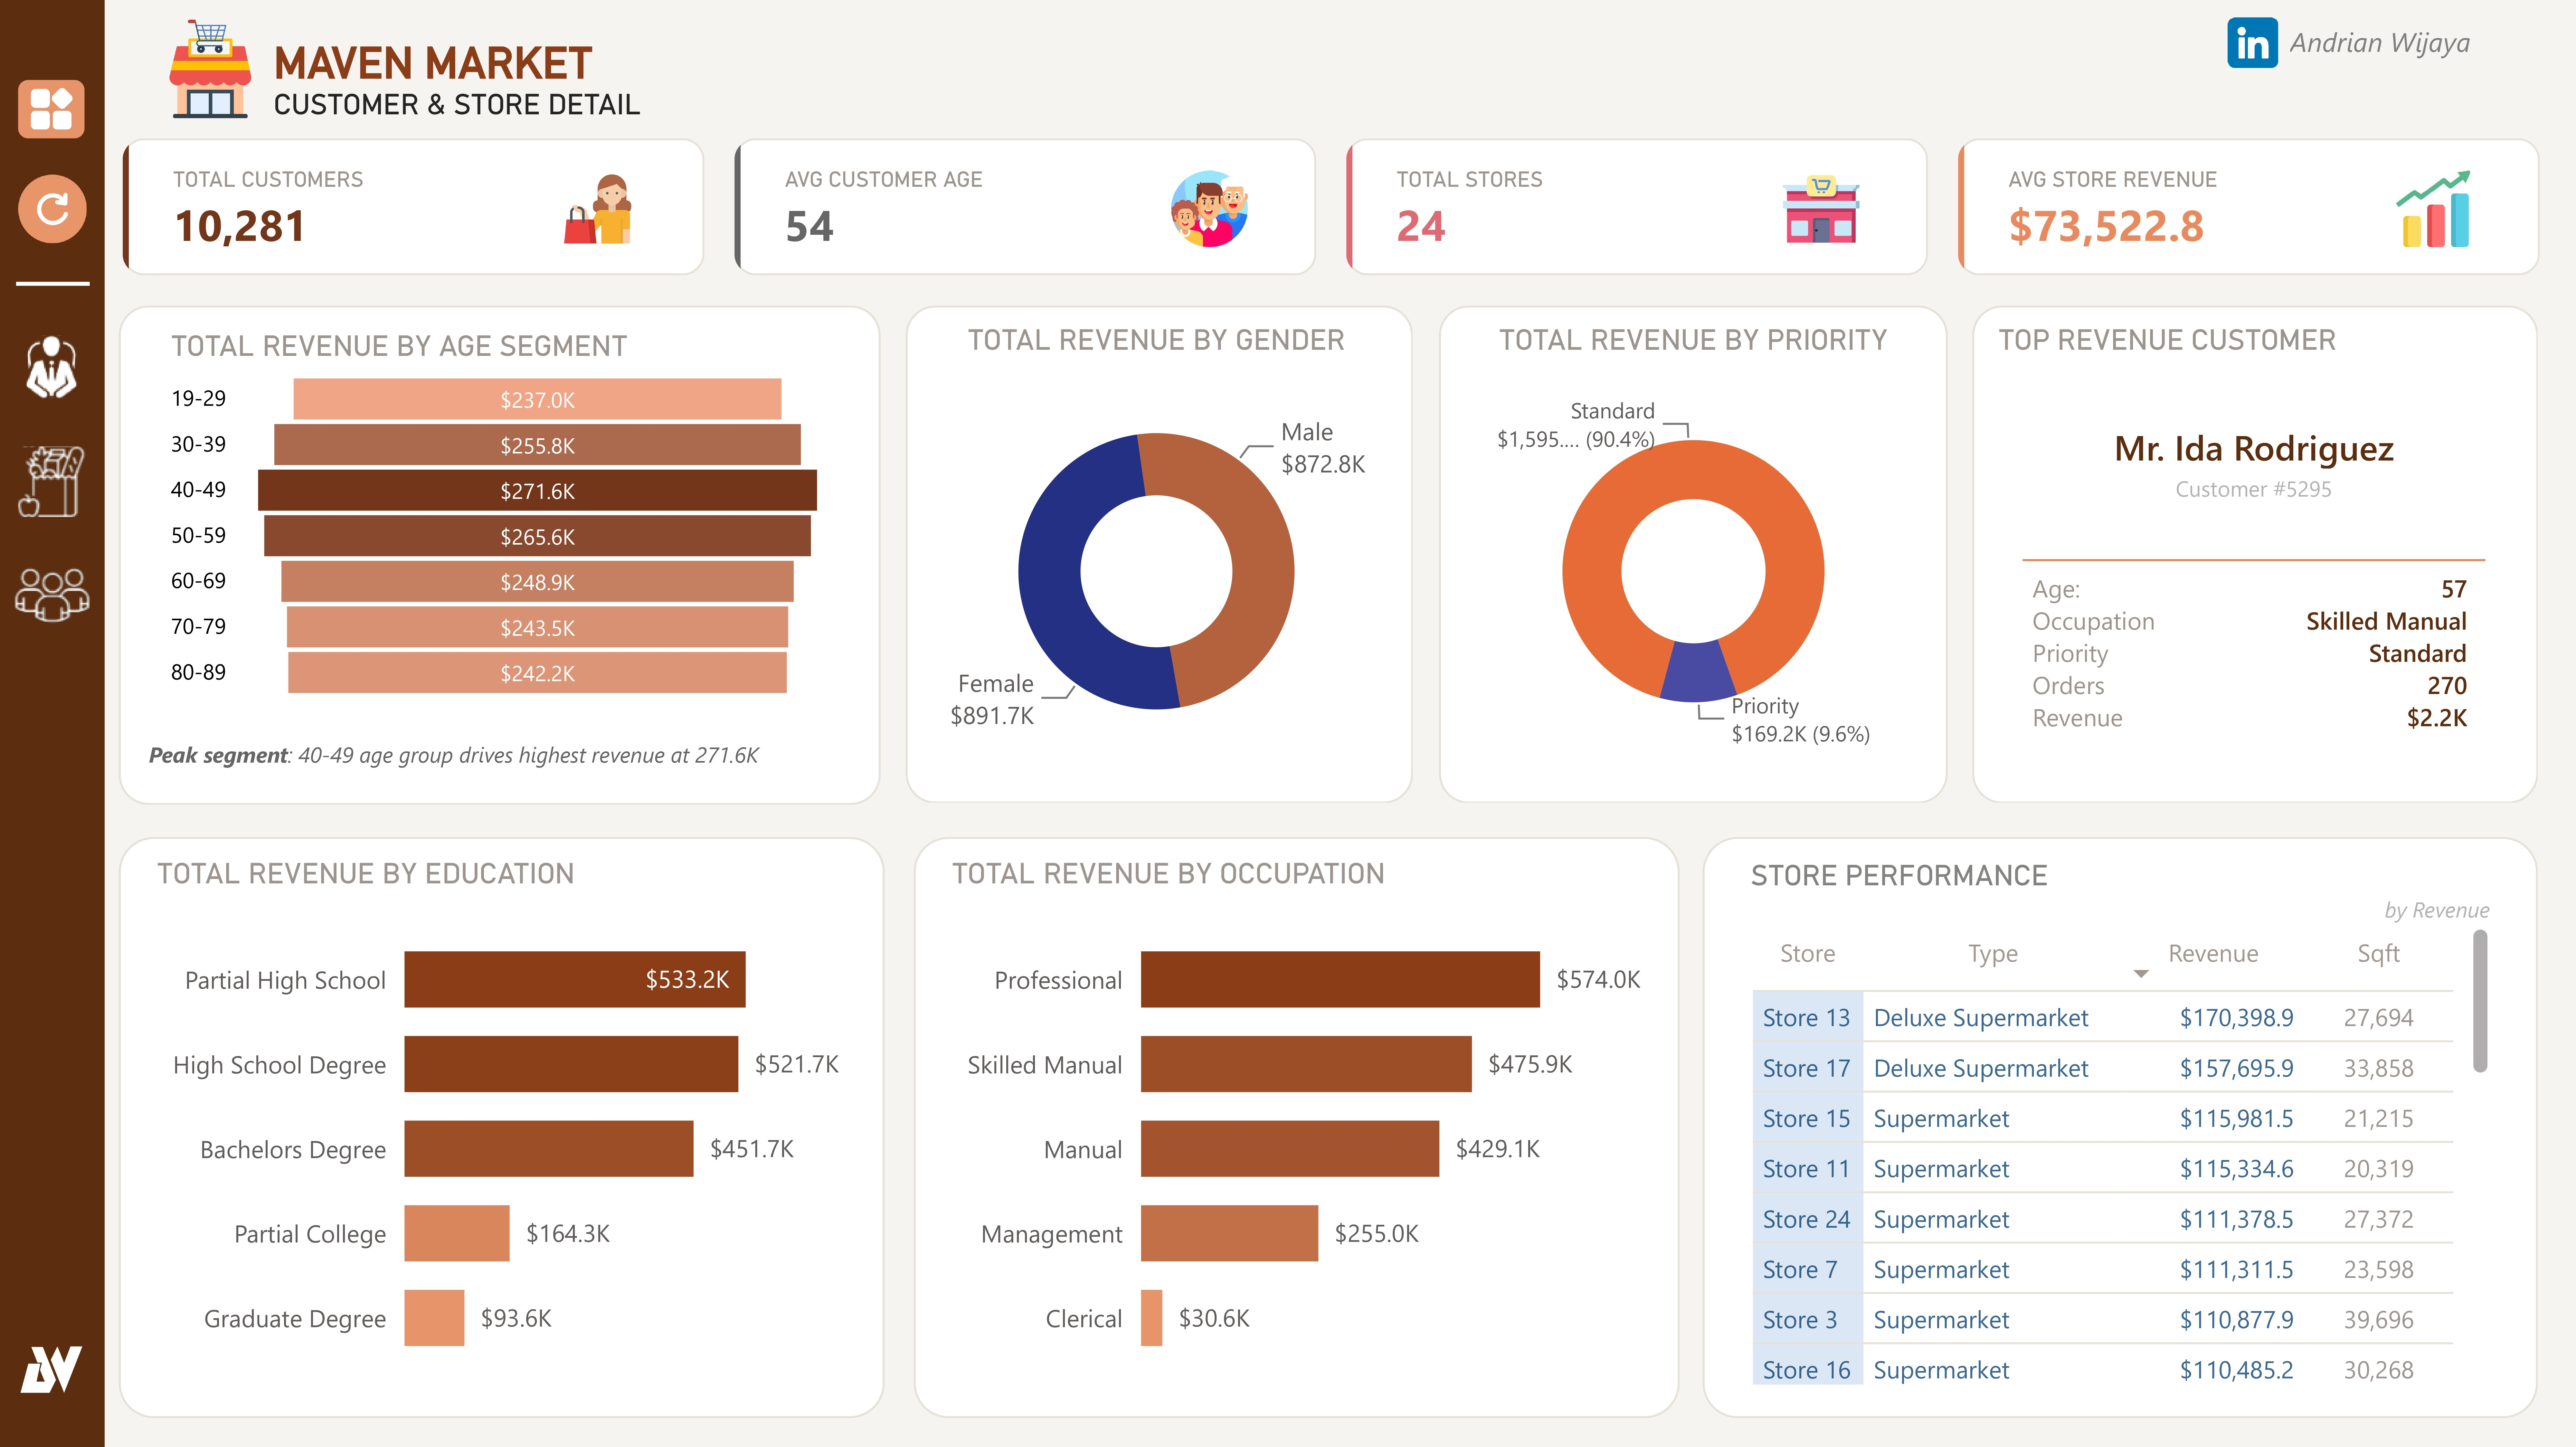

Layout of this report page (visuals, bound fields, positions):
{"tool":"powerbi","page":{"name":"Cust & Store Detail","canvas":[1280,720],"ordinal":2},"visuals":[{"type":"group","id":"g1","title":"Menu","box":[0,0,52.3,720],"z":0},{"type":"shape","box":[0,0,52.3,720],"z":0,"group":"g1"},{"type":"image","box":[1105.3,8.4,28.3,25],"z":0,"group":"g10"},{"type":"image","box":[69,10,70.9,48.8],"z":0,"group":"g2"},{"type":"shape","box":[58.8,151.7,378.6,248.1],"z":0,"group":"g8"},{"type":"shape","box":[450.3,152.1,252.2,247.4],"z":0,"group":"g9"},{"type":"shape","title":"Priority Box","box":[714.6,152.1,252.8,247.4],"z":0,"group":"g4"},{"type":"shape","title":"Top Customer Box","box":[980.3,152.1,281.2,247.4],"z":0,"group":"g3"},{"type":"shape","box":[58.8,415.8,380.6,288.7],"z":0,"group":"g6"},{"type":"shape","box":[454.3,415.8,380.6,288.7],"z":0,"group":"g7"},{"type":"shape","box":[846.4,415.8,415.1,288.7],"z":0,"group":"g5"},{"type":"textbox","box":[1133.6,6.7,121.7,28.3],"z":1000,"group":"g10"},{"type":"textbox","box":[131.3,14,305.5,52.6],"z":1000,"group":"g2"},{"type":"cardVisual","title":"KPI","fields":{"Data":["Measure Table.Total Customer","Measure Table.AVF Customer Age","Measure Table.Total Stores","Measure Table.AVG Store Revenue"]},"box":[43.9,51.7,1235.8,102.1],"z":1000},{"type":"shape","box":[7.7,134.1,36.6,14.5],"z":1000,"group":"g1"},{"type":"donutChart","title":"TOTAL REVENUE BY GENDER","fields":{"Y":["Measure Table.Total Revenue"],"Category":["Customers Lookup.gender"]},"box":[455.8,160.7,239.3,228.6],"z":1000,"group":"g9"},{"type":"cardVisual","title":"TOP REVENUE CUSTOMER","fields":{"Data":["Min(Customers Lookup.Full Name (c))"]},"box":[988.6,160.7,264.3,228.6],"z":1000,"group":"g3"},{"type":"donutChart","title":"TOTAL REVENUE BY PRIORITY","fields":{"Y":["Measure Table.Total Revenue"],"Category":["Customers Lookup.Priority"]},"box":[733.5,160.9,215,228.5],"z":1000,"group":"g4"},{"type":"textbox","box":[69.3,360,316.4,32.1],"z":1000,"group":"g8"},{"type":"clusteredBarChart","title":"TOTAL REVENUE BY EDUCATION","fields":{"Category":["Customers Lookup.education"],"Y":["Measure Table.Total Revenue"]},"box":[73,425.9,352.2,265.7],"z":1000,"group":"g6"},{"type":"clusteredBarChart","title":"TOTAL REVENUE BY OCCUPATION","fields":{"Category":["Customers Lookup.occupation"],"Y":["Measure Table.Total Revenue"]},"box":[468.5,425.9,352.2,265.7],"z":1000,"group":"g7"},{"type":"tableEx","title":"STORE PERFORMANCE","fields":{"Values":["Stores Lookup.store_name","Stores Lookup.store_type","Measure Table.Total Revenue","Sum(Stores Lookup.total_sqft)"]},"box":[865.3,427.3,377.2,265.7],"z":1000,"group":"g5"},{"type":"group","id":"g2","title":"Tittle","box":[69,10,367.8,56.5],"z":2000},{"type":"image","title":"Menu Filter","box":[9.1,39.6,32.8,29],"z":2000,"group":"g1"},{"type":"funnel","title":"TOTAL REVENUE BY AGE SEGMENT","fields":{"Category":["Customers Lookup.Age Segment"],"Y":["Measure Table.Total Revenue"]},"box":[79.8,163.9,336,187.3],"z":2000,"group":"g8"},{"type":"group","id":"g3","title":"Top Customer","box":[980.3,152.1,281.2,247.4],"z":3000},{"type":"image","title":"logo","box":[7.6,662.9,35.8,35],"z":3000,"group":"g1"},{"type":"image","title":"Reset","box":[8.1,87.2,35.8,34.5],"z":4000,"group":"g1"},{"type":"group","id":"g4","title":"Priority on Total Revenue","box":[714.6,152.1,252.8,247.4],"z":4000},{"type":"actionButton","title":"Exect Page","box":[6.2,160.8,39.3,43.6],"z":4500,"group":"g1"},{"type":"actionButton","title":"Product Page","box":[4.7,216.3,43.3,47.3],"z":5000,"group":"g1"},{"type":"group","id":"g5","title":"Store Performance","box":[846.4,415.8,415.1,288.7],"z":5000},{"type":"actionButton","title":"Cust Page","box":[3.4,272.5,46,48.7],"z":5500,"group":"g1"},{"type":"group","id":"g6","title":"Education on Quantity Sold","box":[58.8,415.8,380.6,288.7],"z":6000},{"type":"group","id":"g7","title":"Occupation on Quantity Sold","box":[454.3,415.8,380.6,288.7],"z":7000},{"type":"group","id":"g8","title":"Group Age","box":[58.8,151.7,378.6,248.1],"z":8000},{"type":"group","id":"g9","title":"Gender on Total Revenue","box":[450.3,152.1,252.2,247.4],"z":9000},{"type":"group","id":"g10","title":"Linkedin","box":[1105.3,6.7,150,28.3],"z":10000}]}

Visuals, with their boxes on the page's 1280x720 design canvas (x1, y1, x2, y2). These are canvas units, not pixel positions in the 2576x1447 screenshot, which may show the page scaled, cropped or inside an application window:
"Menu" group: rect(0, 0, 52, 720)
shape: rect(0, 0, 52, 720)
image: rect(1105, 8, 1134, 33)
image: rect(69, 10, 140, 59)
shape: rect(59, 152, 437, 400)
shape: rect(450, 152, 702, 400)
"Priority Box" shape: rect(715, 152, 967, 400)
"Top Customer Box" shape: rect(980, 152, 1262, 400)
shape: rect(59, 416, 439, 704)
shape: rect(454, 416, 835, 704)
shape: rect(846, 416, 1262, 704)
textbox: rect(1134, 7, 1255, 35)
textbox: rect(131, 14, 437, 67)
"KPI" cardVisual: rect(44, 52, 1280, 154)
shape: rect(8, 134, 44, 149)
"TOTAL REVENUE BY GENDER" donutChart: rect(456, 161, 695, 389)
"TOP REVENUE CUSTOMER" cardVisual: rect(989, 161, 1253, 389)
"TOTAL REVENUE BY PRIORITY" donutChart: rect(734, 161, 948, 389)
textbox: rect(69, 360, 386, 392)
"TOTAL REVENUE BY EDUCATION" clusteredBarChart: rect(73, 426, 425, 692)
"TOTAL REVENUE BY OCCUPATION" clusteredBarChart: rect(468, 426, 821, 692)
"STORE PERFORMANCE" tableEx: rect(865, 427, 1242, 693)
"Tittle" group: rect(69, 10, 437, 66)
"Menu Filter" image: rect(9, 40, 42, 69)
"TOTAL REVENUE BY AGE SEGMENT" funnel: rect(80, 164, 416, 351)
"Top Customer" group: rect(980, 152, 1262, 400)
"logo" image: rect(8, 663, 43, 698)
"Reset" image: rect(8, 87, 44, 122)
"Priority on Total Revenue" group: rect(715, 152, 967, 400)
"Exect Page" actionButton: rect(6, 161, 46, 204)
"Product Page" actionButton: rect(5, 216, 48, 264)
"Store Performance" group: rect(846, 416, 1262, 704)
"Cust Page" actionButton: rect(3, 272, 49, 321)
"Education on Quantity Sold" group: rect(59, 416, 439, 704)
"Occupation on Quantity Sold" group: rect(454, 416, 835, 704)
"Group Age" group: rect(59, 152, 437, 400)
"Gender on Total Revenue" group: rect(450, 152, 702, 400)
"Linkedin" group: rect(1105, 7, 1255, 35)
